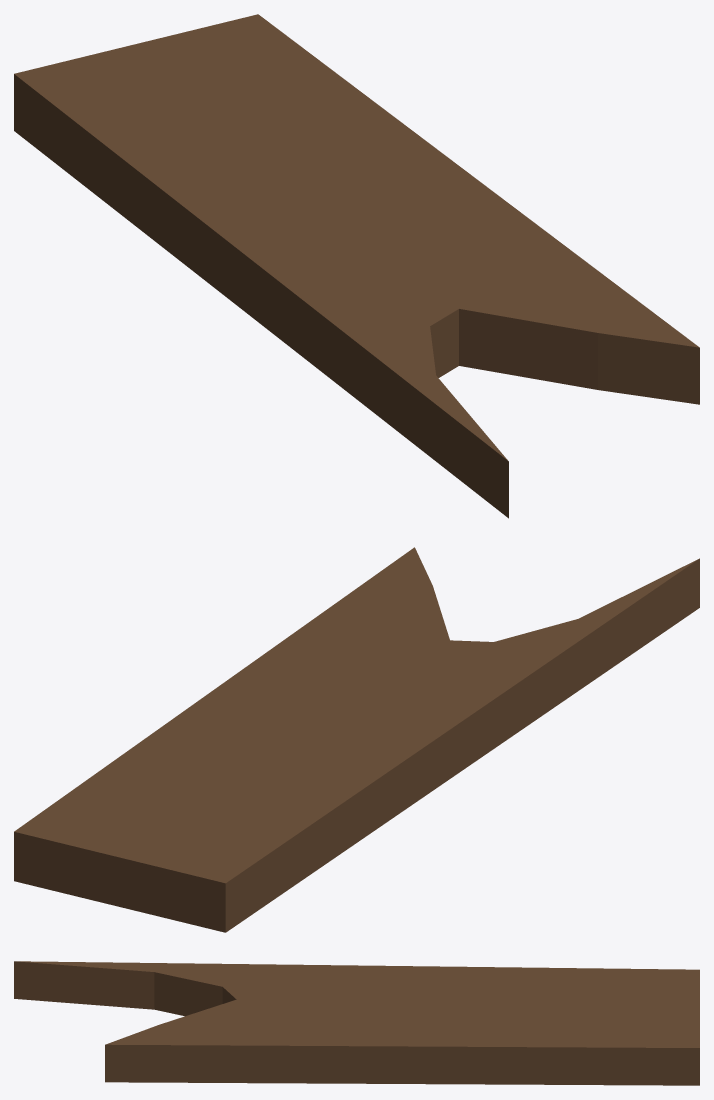
Rendered from broke_box2.fbx.
3 views of the same model, one above another, from view 1: azimuth 30°, elevation 25°; view 2: azimuth 150°, elevation 25°; view 3: azimuth 270°, elevation 25° (orthographic). The views are drawn at different scales.
Parts seen in each view (by area): view 1: Cube.001; view 2: Cube.001; view 3: Cube.001.
Part boxes in pixels (x1,y1,x2,y2): Cube.001: (14,14,699,518); Cube.001: (14,547,699,932); Cube.001: (14,961,699,1085).
Bounding box in the file's own units: 23.38 × 4.72 × 78.06.
